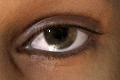eye: (44, 27, 77, 48)
